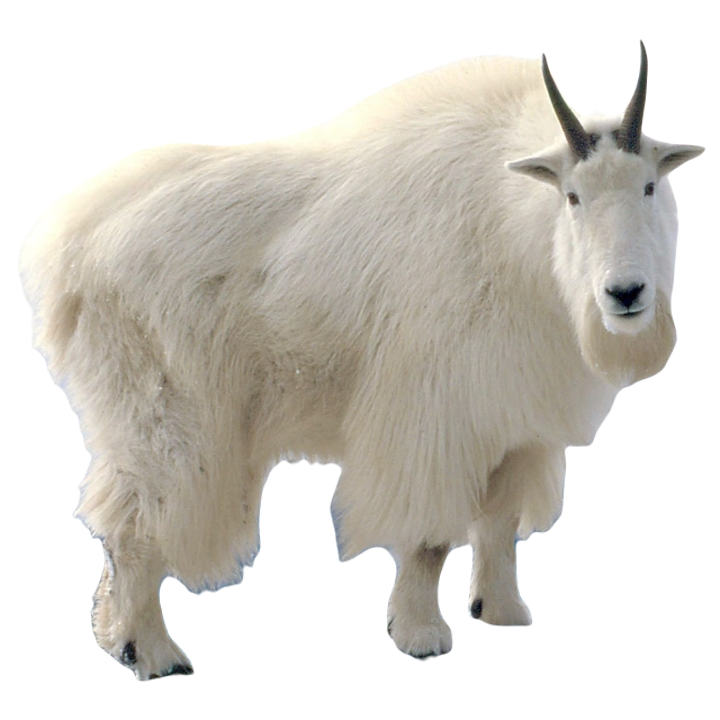Goat: (31, 37, 706, 678)
